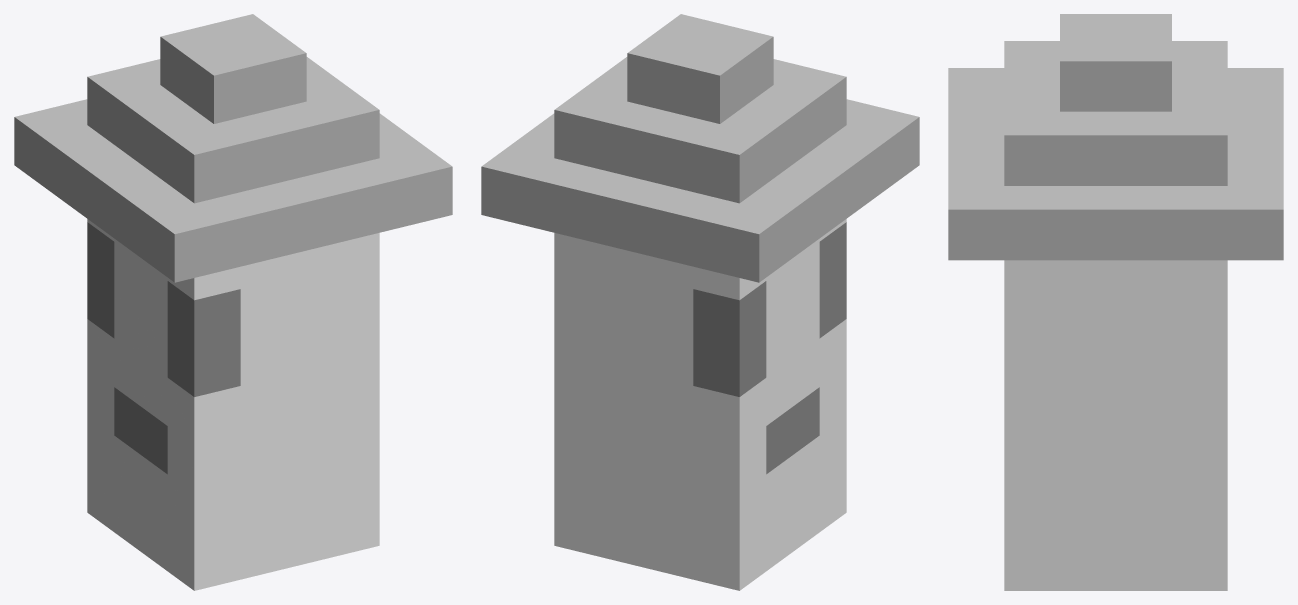
Rendered from mushroom1.obj.
The picture shows the model from 3 angles, left to right: view 1: azimuth 30°, elevation 25°; view 2: azimuth 150°, elevation 25°; view 3: azimuth 270°, elevation 25°; orthographic projection. The views are drawn at different scales.
Bounding box in the file's own units: 0.6 × 1 × 0.6.
1 material, 1 textured.
